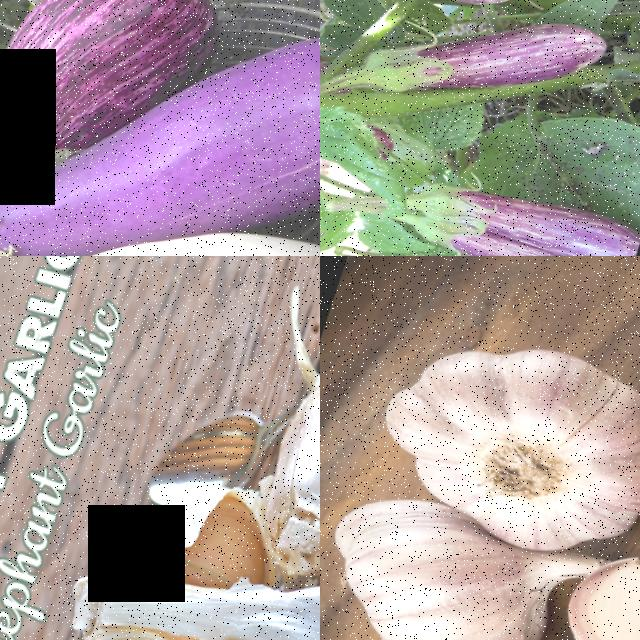eggplant: (0, 0, 211, 214), (359, 0, 617, 139), (0, 159, 320, 256), (199, 0, 320, 184), (413, 160, 640, 256), (410, 212, 614, 256)
garlic: (359, 309, 640, 555), (320, 490, 564, 640), (126, 471, 287, 601), (244, 376, 320, 584), (551, 572, 640, 640)
